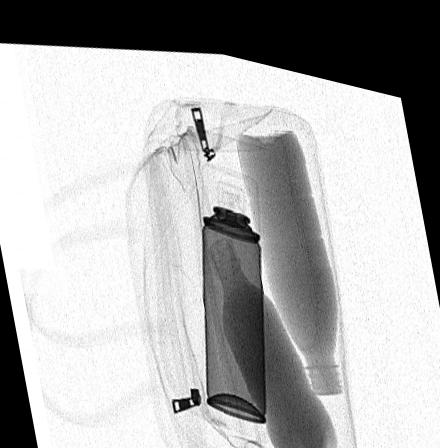Sprayer: (199, 151, 265, 410)
